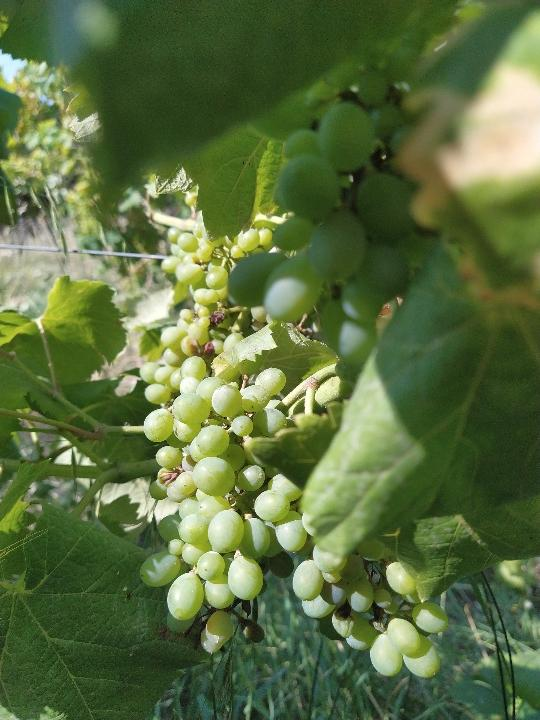grape: (137, 325, 451, 683)
